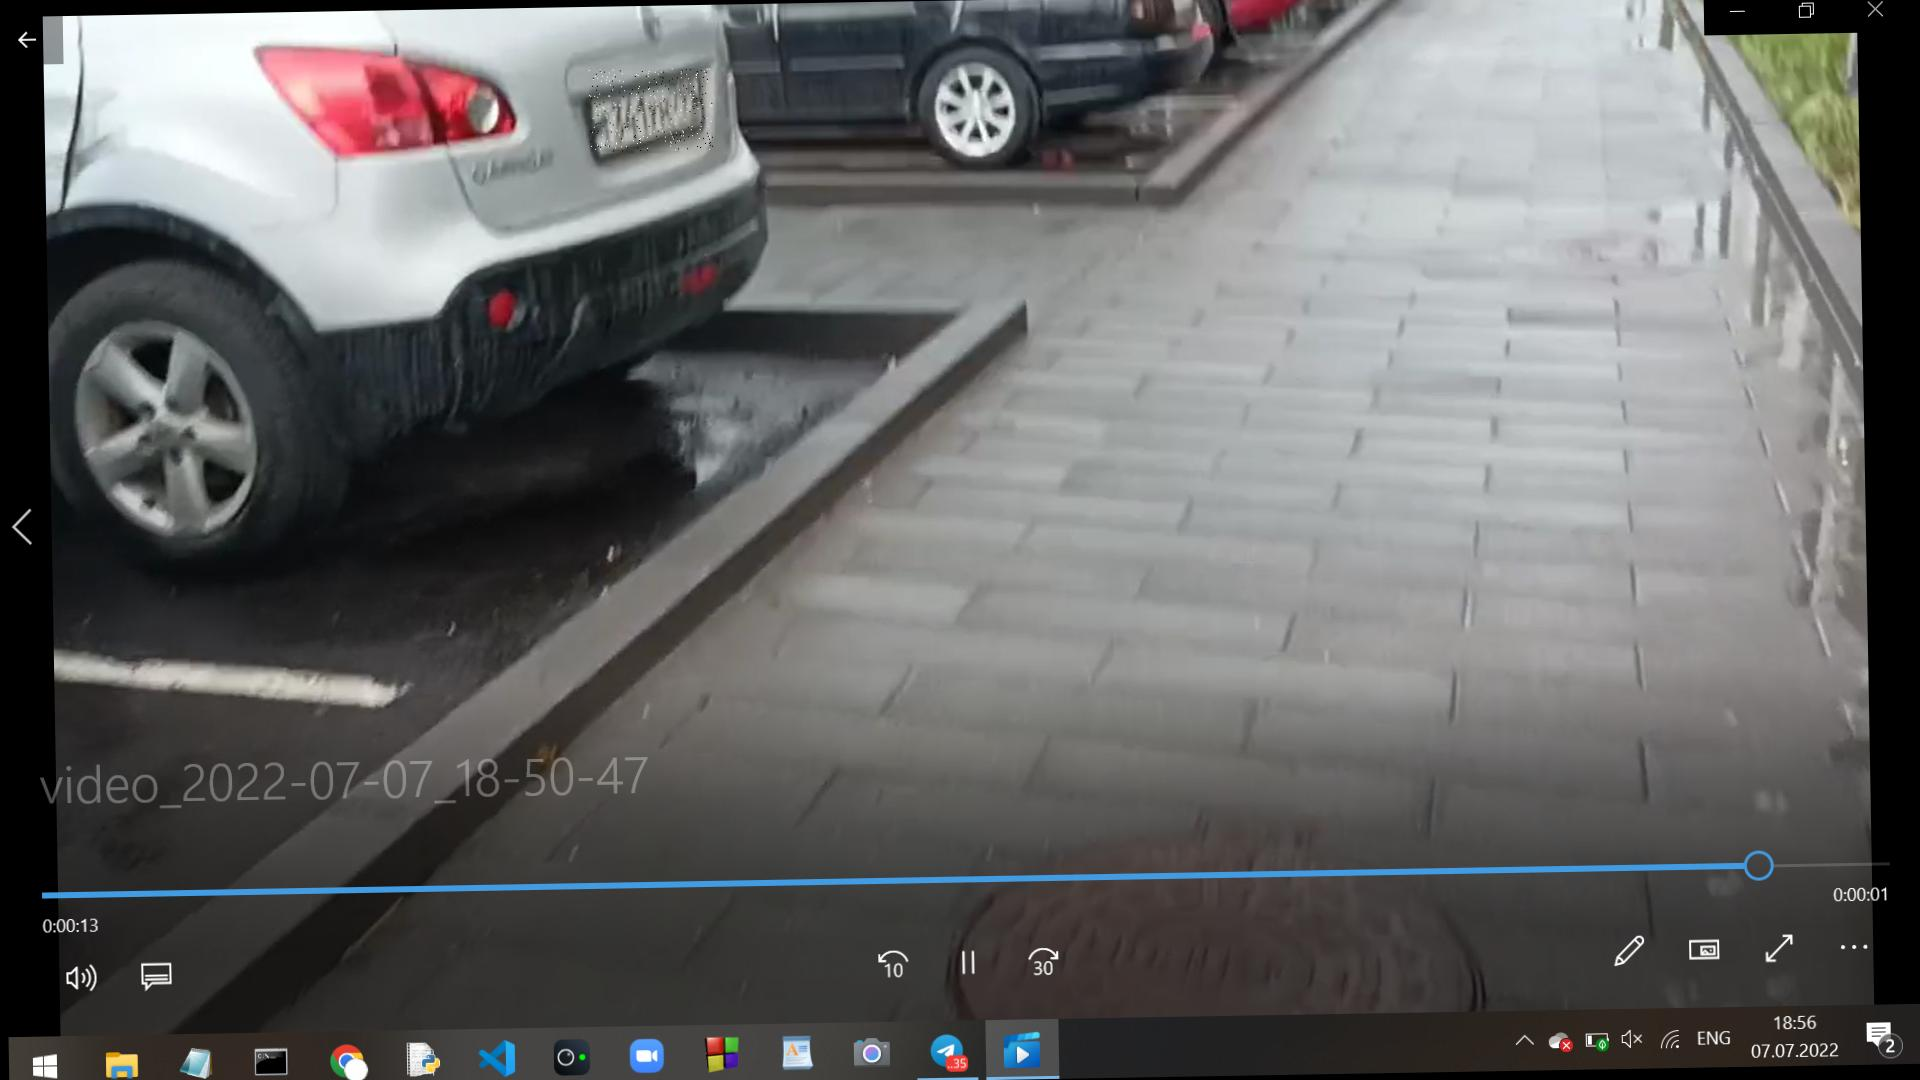plate: (591, 69, 715, 153)
